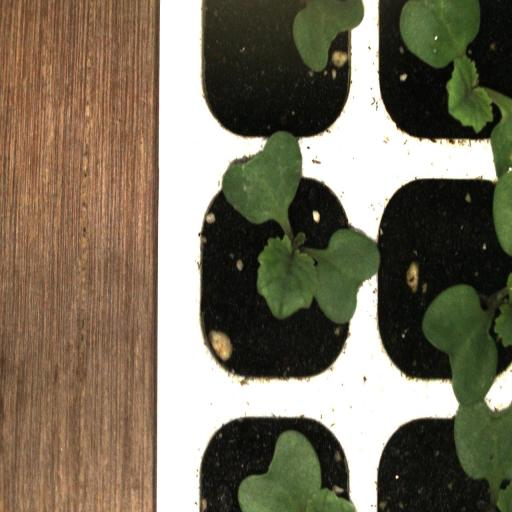Folha: (422, 276, 512, 512), (237, 429, 356, 512), (256, 0, 364, 73)
Germinacao: (184, 151, 364, 394), (365, 160, 512, 401), (365, 0, 512, 162)
